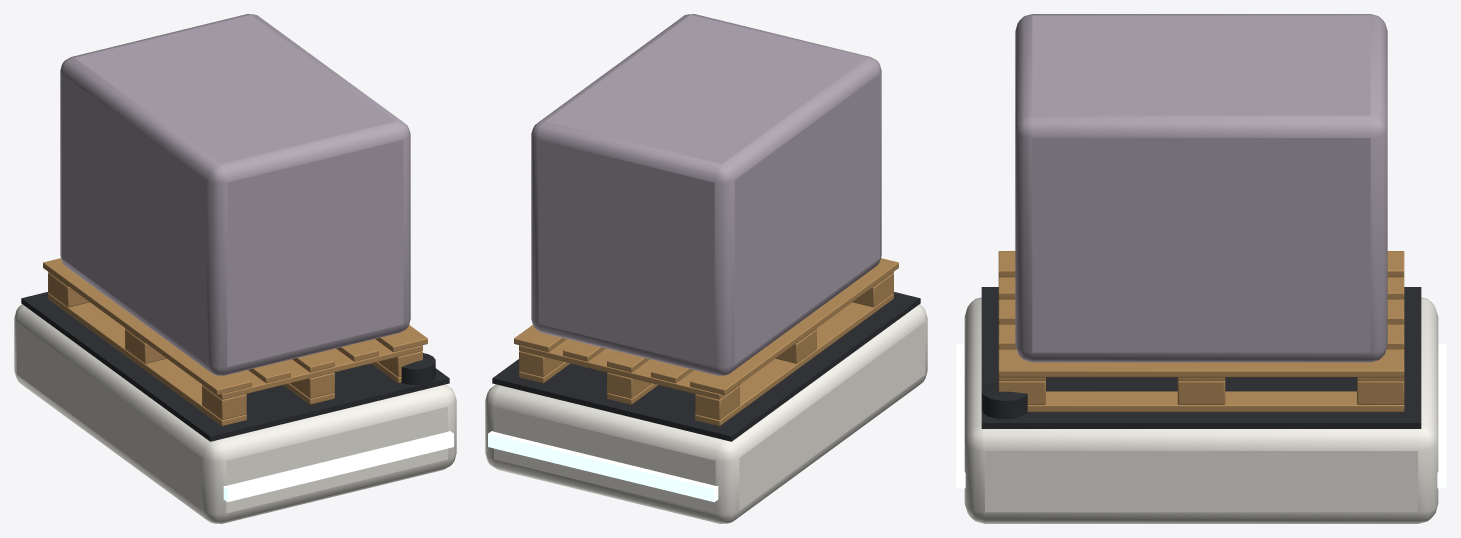
File: agv_bale_cans.fbx
The picture shows the model from 3 angles, left to right: view 1: azimuth 30°, elevation 25°; view 2: azimuth 150°, elevation 25°; view 3: azimuth 270°, elevation 25°; orthographic projection. The views are drawn at different scales.
Visible parts, largest first — view 1: agv_bale_cans; view 2: agv_bale_cans; view 3: agv_bale_cans.
Part boxes in pixels (x1=…): agv_bale_cans: x1=14, y1=14, x2=456, y2=523; agv_bale_cans: x1=485, y1=14, x2=927, y2=523; agv_bale_cans: x1=956, y1=14, x2=1446, y2=523.
Bounding box in the file's own units: 1 × 1.28 × 1.45.
